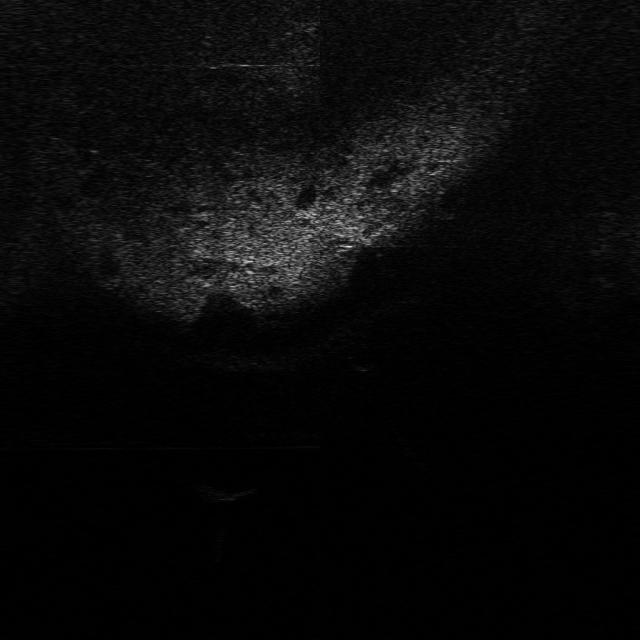ball: (342, 340, 386, 372)
cube: (184, 476, 260, 506)
